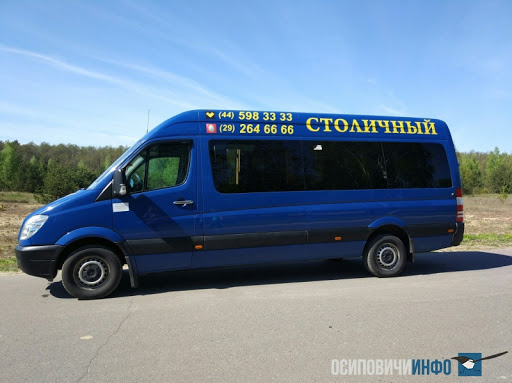van: (15, 108, 468, 301)
